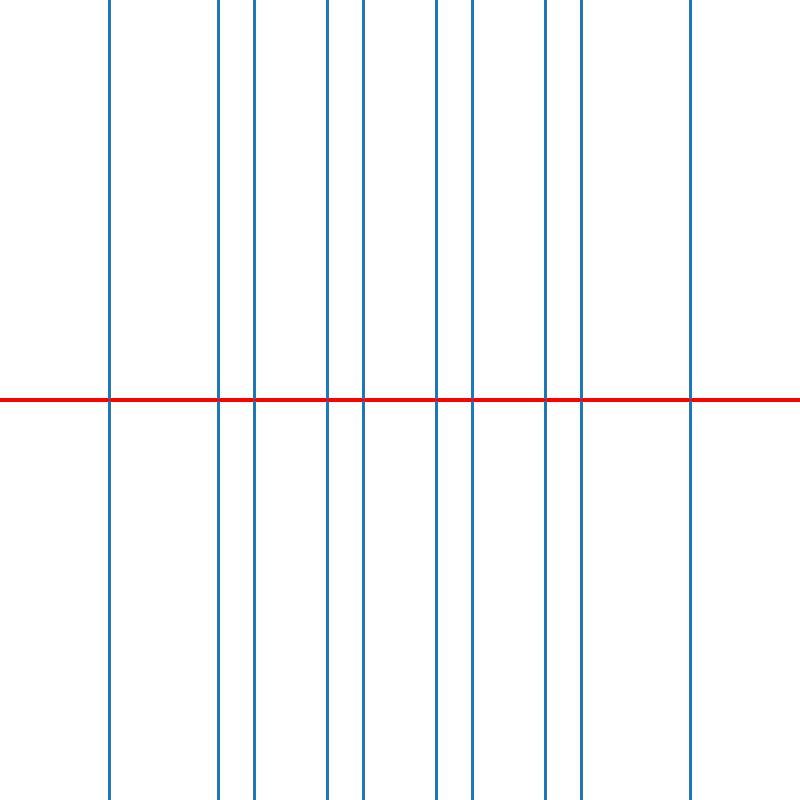root: (432, 396, 440, 404), (250, 396, 258, 404), (541, 396, 549, 404), (687, 396, 694, 404), (469, 396, 476, 404), (578, 396, 585, 404), (360, 396, 367, 404), (323, 396, 330, 404), (214, 396, 221, 404), (105, 396, 112, 404)
